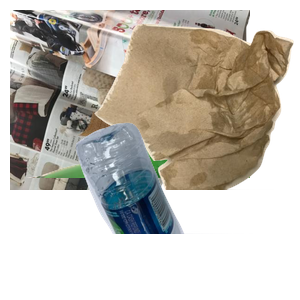glass: (23, 120, 263, 300)
paper: (10, 10, 250, 190)
plastic: (73, 120, 300, 300)
trash: (92, 21, 300, 201)
